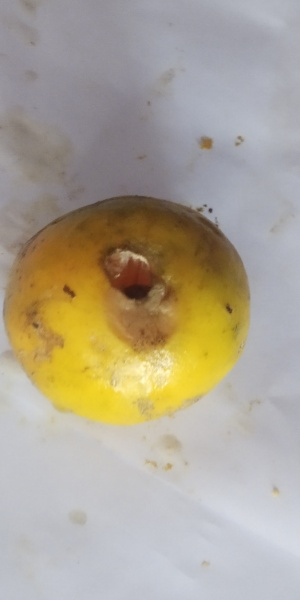BAD: (2, 196, 260, 429)
